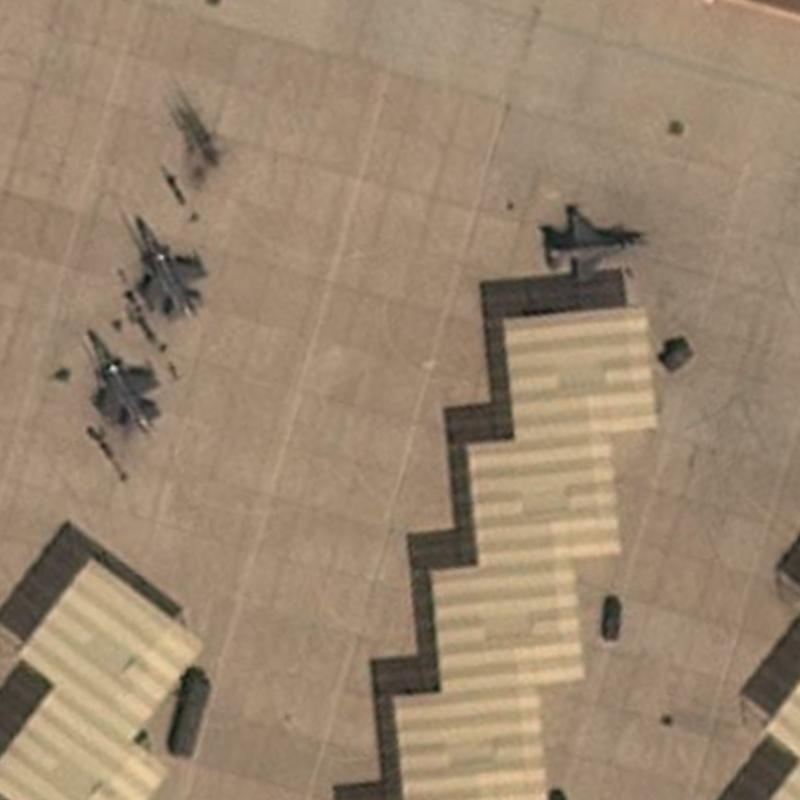A5: (80, 318, 165, 439), (128, 204, 209, 322), (540, 202, 656, 284)
